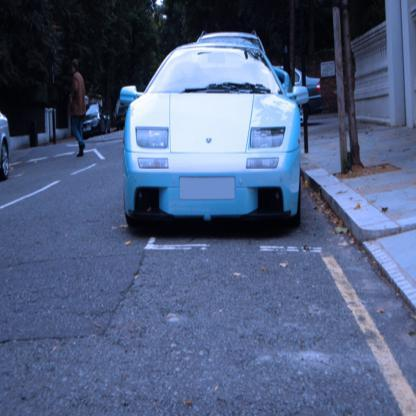car: (115, 33, 300, 229), (292, 66, 324, 108), (0, 107, 12, 170), (84, 104, 111, 130)
